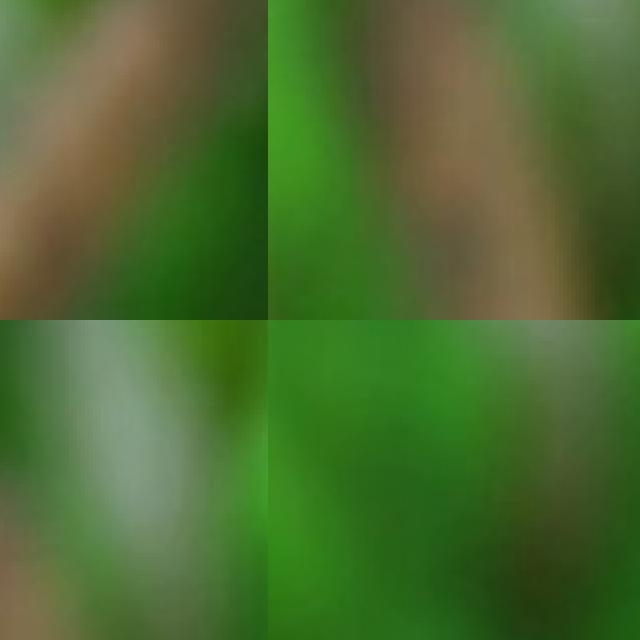fish: (0, 0, 268, 320), (0, 436, 165, 640)
